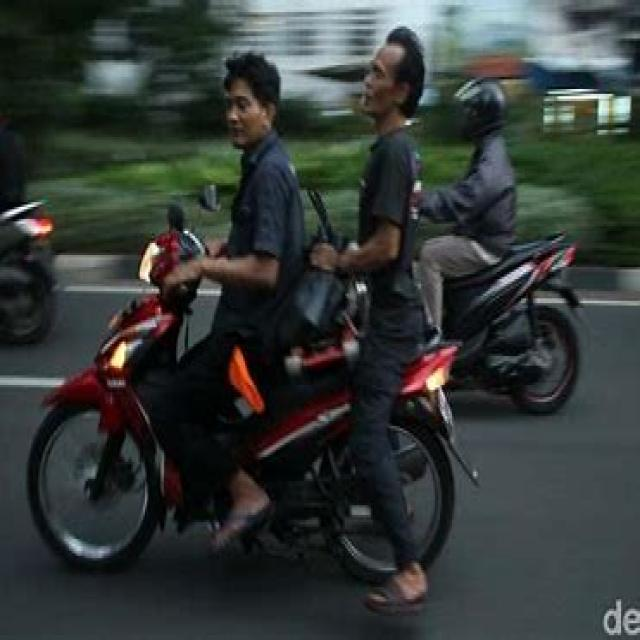Without Helmet: (213, 43, 287, 146), (354, 28, 425, 121)
